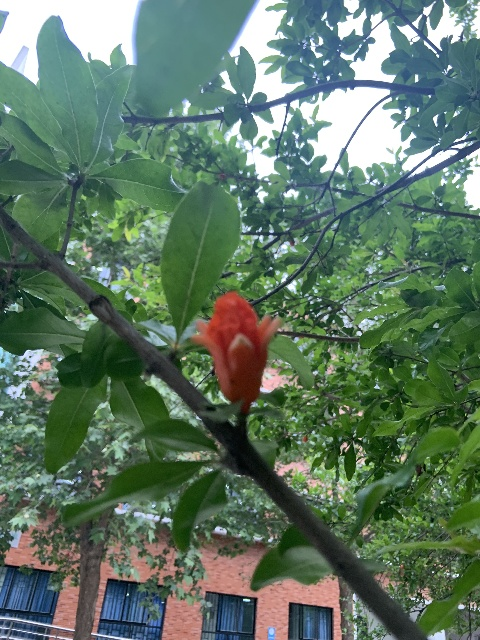flower: (190, 290, 280, 413), (302, 435, 307, 442)
